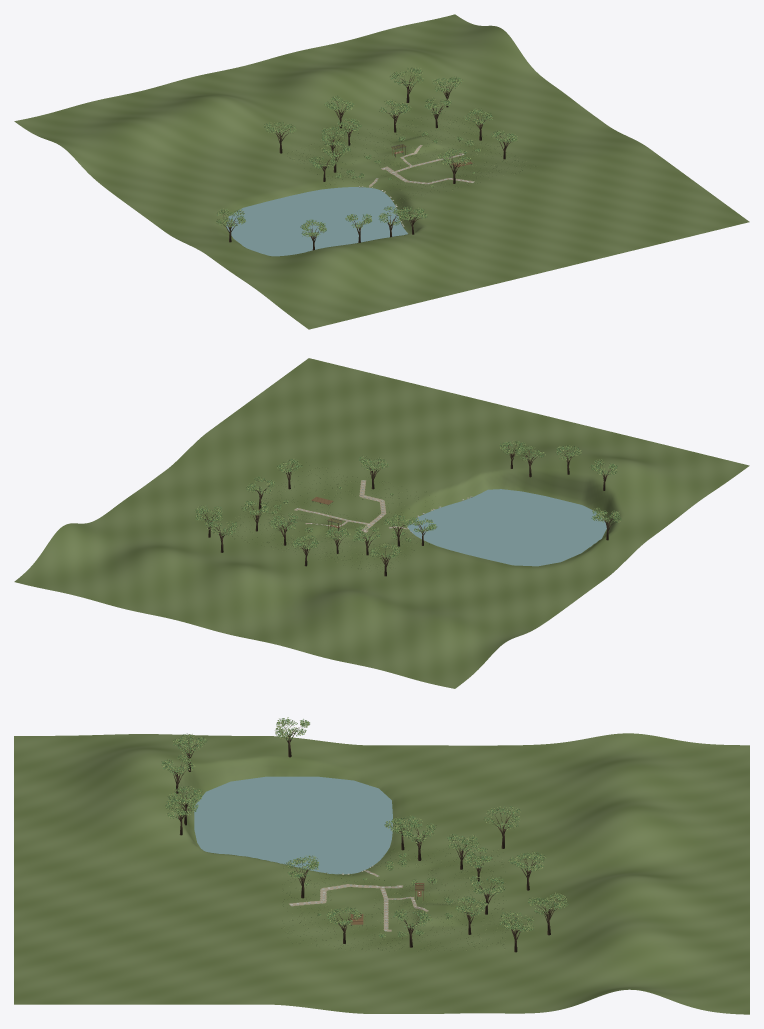
File: garden-landscape-scenic.glb
3 views of the same model, one above another, from view 1: azimuth 30°, elevation 25°; view 2: azimuth 150°, elevation 25°; view 3: azimuth 270°, elevation 25° (orthographic). The views are drawn at different scales.
Parts seen in each view (by area): view 1: garden-landscape-scenic_Meadow_base, garden-landscape-scenic_Quiet_secondary_water, garden-landscape-scenic_Canopy_leaf_0, garden-landscape-scenic_Canopy_leaf_2, garden-landscape-scenic_Textured_bark, garden-landscape-scenic_Canopy_leaf_1, garden-landscape-scenic_Canopy_leaf_3, garden-landscape-scenic_Canopy_leaf_4; view 2: garden-landscape-scenic_Meadow_base, garden-landscape-scenic_Quiet_secondary_water, garden-landscape-scenic_Canopy_leaf_0, garden-landscape-scenic_Canopy_leaf_1, garden-landscape-scenic_Canopy_leaf_2, garden-landscape-scenic_Textured_bark, garden-landscape-scenic_Canopy_leaf_3, garden-landscape-scenic_Canopy_leaf_4, garden-landscape-scenic_Walked_fine_gravel; view 3: garden-landscape-scenic_Meadow_base, garden-landscape-scenic_Quiet_secondary_water, garden-landscape-scenic_Canopy_leaf_0, garden-landscape-scenic_Canopy_leaf_2, garden-landscape-scenic_Canopy_leaf_1, garden-landscape-scenic_Canopy_leaf_3, garden-landscape-scenic_Canopy_leaf_4, garden-landscape-scenic_Textured_bark, garden-landscape-scenic_Walked_fine_gravel.
Part boxes in pixels (x1,y1,x2,y2): garden-landscape-scenic_Meadow_base: (14, 14, 749, 329); garden-landscape-scenic_Quiet_secondary_water: (226, 187, 407, 256); garden-landscape-scenic_Canopy_leaf_0: (216, 68, 515, 236); garden-landscape-scenic_Canopy_leaf_2: (218, 67, 517, 236); garden-landscape-scenic_Textured_bark: (223, 73, 510, 250); garden-landscape-scenic_Canopy_leaf_1: (216, 68, 517, 237); garden-landscape-scenic_Canopy_leaf_3: (217, 67, 516, 236); garden-landscape-scenic_Canopy_leaf_4: (217, 67, 518, 236); garden-landscape-scenic_Meadow_base: (14, 358, 749, 688); garden-landscape-scenic_Quiet_secondary_water: (407, 489, 606, 566); garden-landscape-scenic_Canopy_leaf_0: (195, 441, 621, 558); garden-landscape-scenic_Canopy_leaf_1: (195, 441, 621, 557); garden-landscape-scenic_Canopy_leaf_2: (195, 441, 619, 557); garden-landscape-scenic_Textured_bark: (203, 445, 613, 576); garden-landscape-scenic_Canopy_leaf_3: (195, 441, 621, 558); garden-landscape-scenic_Canopy_leaf_4: (196, 440, 620, 557); garden-landscape-scenic_Walked_fine_gravel: (294, 480, 406, 532); garden-landscape-scenic_Meadow_base: (14, 733, 749, 1014); garden-landscape-scenic_Quiet_secondary_water: (194, 776, 392, 874); garden-landscape-scenic_Canopy_leaf_0: (162, 718, 565, 937); garden-landscape-scenic_Canopy_leaf_2: (163, 719, 566, 937); garden-landscape-scenic_Canopy_leaf_1: (162, 717, 567, 937); garden-landscape-scenic_Canopy_leaf_3: (161, 718, 568, 937); garden-landscape-scenic_Canopy_leaf_4: (161, 718, 567, 937); garden-landscape-scenic_Textured_bark: (171, 724, 557, 952); garden-landscape-scenic_Walked_fine_gravel: (289, 870, 428, 931).
Size of the model in its own units: 152 by 16.1 by 176.
Materials: 22 (2 with a texture image).
